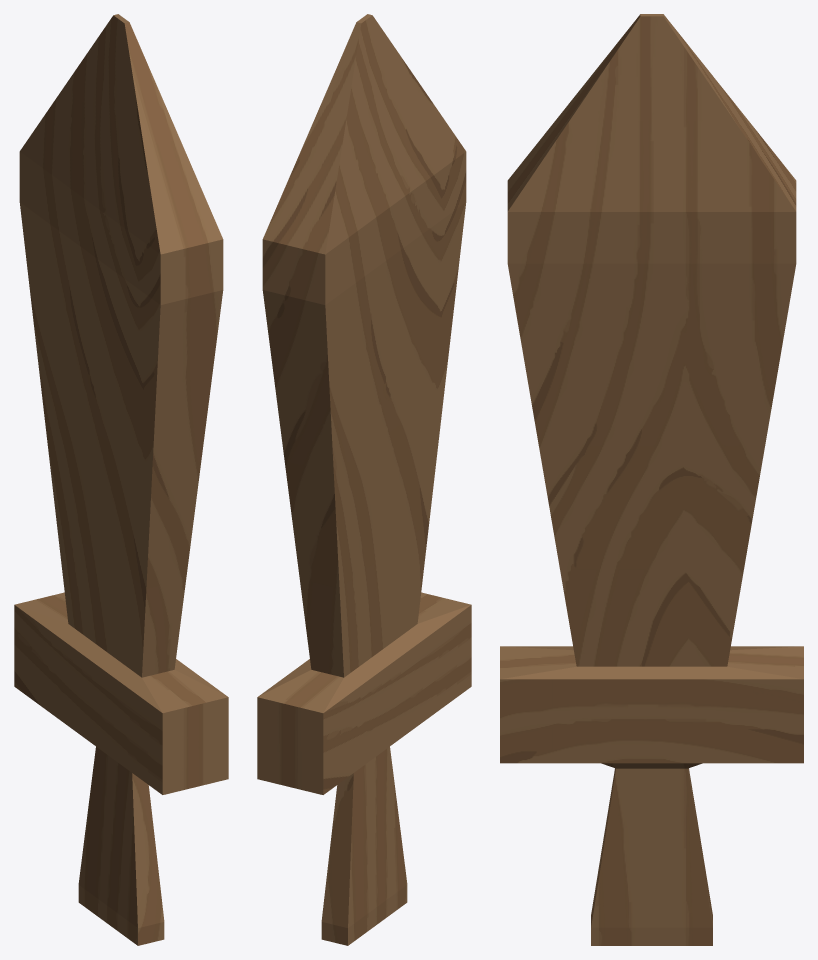
The model's file is SwordF.fbx.
3 renders of one model, left to right at view 1: azimuth 30°, elevation 25°; view 2: azimuth 150°, elevation 25°; view 3: azimuth 270°, elevation 25°, orthographic. The views are drawn at different scales.
Parts seen in each view (by area): view 1: sword F; view 2: sword F; view 3: sword F.
Part boxes in pixels (<box>): sword F: <box>14,14,228,945</box>; sword F: <box>257,14,471,945</box>; sword F: <box>500,14,803,945</box>.
Size of the model in its own units: 0.0708 by 0.9263 by 0.276.
